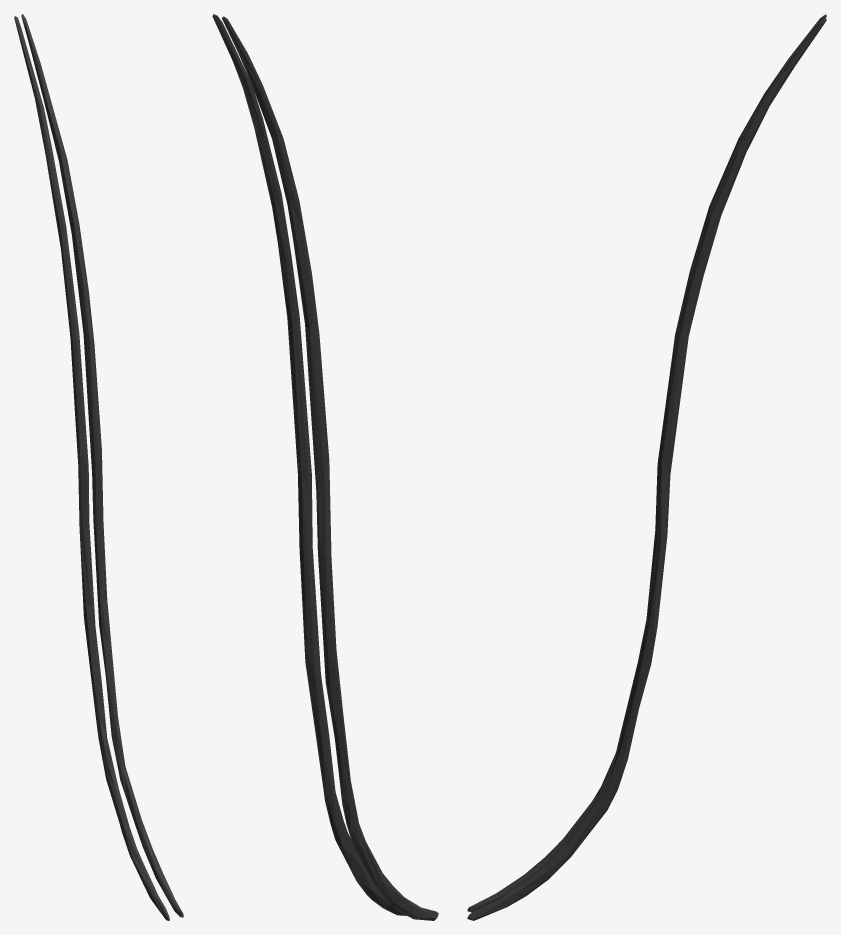
The model's file is m_intertransversarii_vent_cauda.glb.
3 views of the same model, side by side, from view 1: azimuth 30°, elevation 25°; view 2: azimuth 150°, elevation 25°; view 3: azimuth 270°, elevation 25° (orthographic). The views are drawn at different scales.
Visible parts, largest first — view 1: m_intertransversarii_vent_cauda; view 2: m_intertransversarii_vent_cauda; view 3: m_intertransversarii_vent_cauda.
Boxes of the visible parts, bbox=[...] form: m_intertransversarii_vent_cauda: bbox=[14, 14, 183, 920]; m_intertransversarii_vent_cauda: bbox=[212, 14, 438, 920]; m_intertransversarii_vent_cauda: bbox=[467, 14, 826, 920].
Bounding box in the file's own units: 0.000318 × 0.01 × 0.00363.
1 material, 1 textured.
